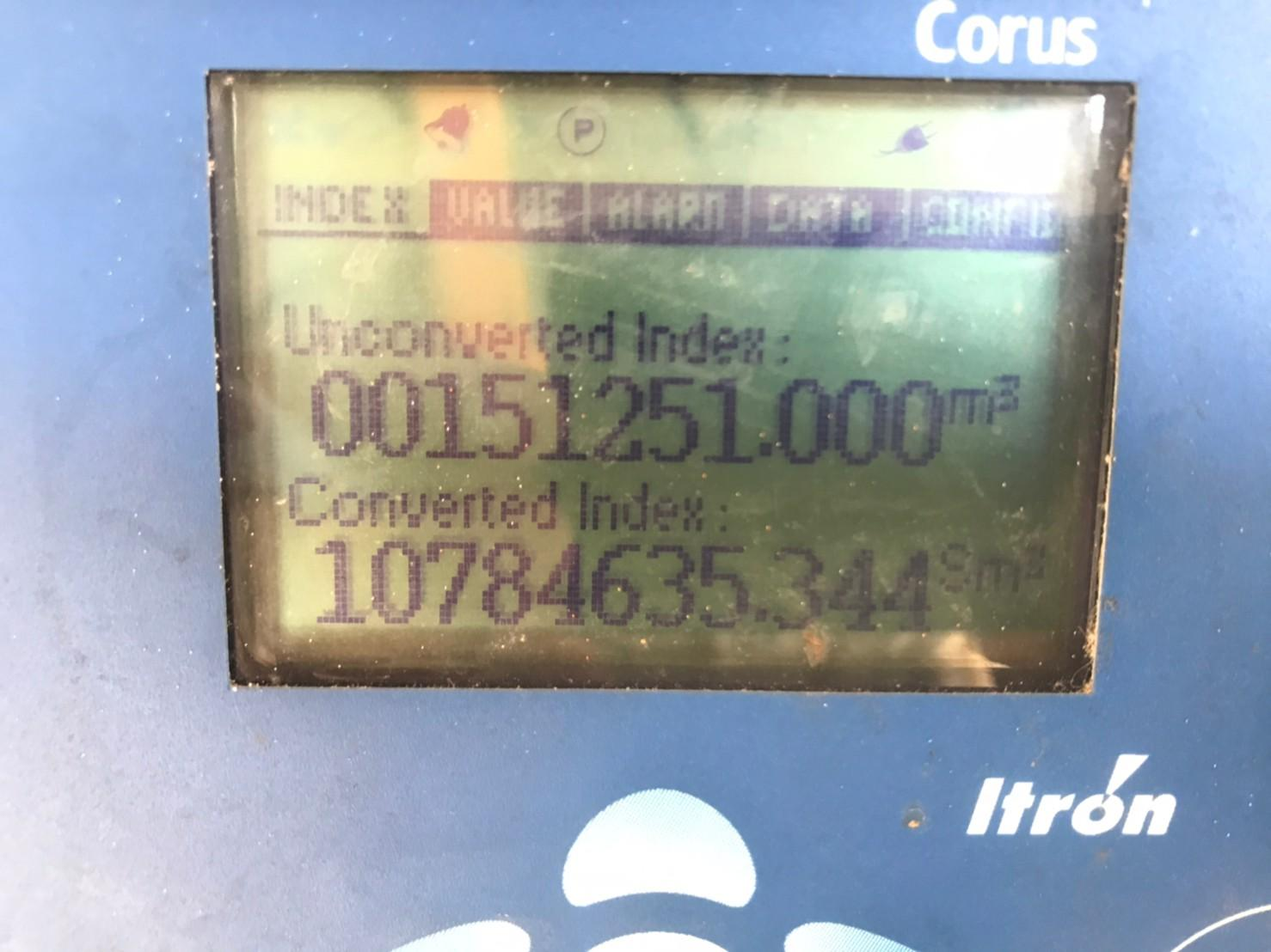digital_screen: (206, 72, 1135, 687)
